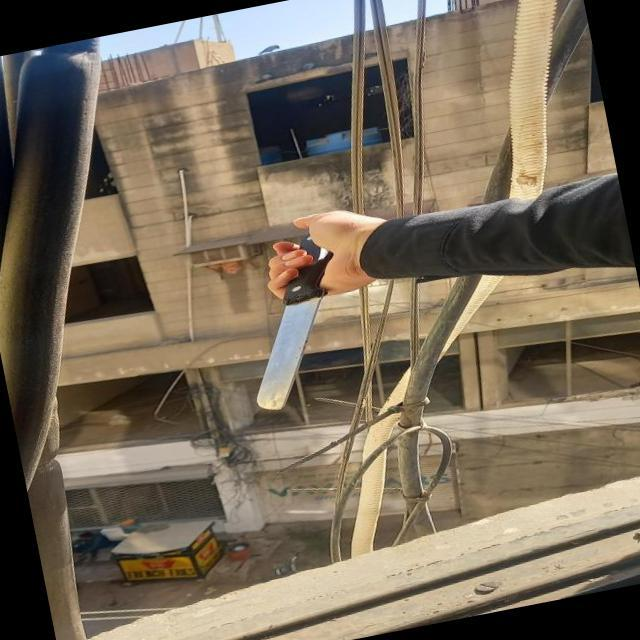Knife: (212, 223, 382, 418)
